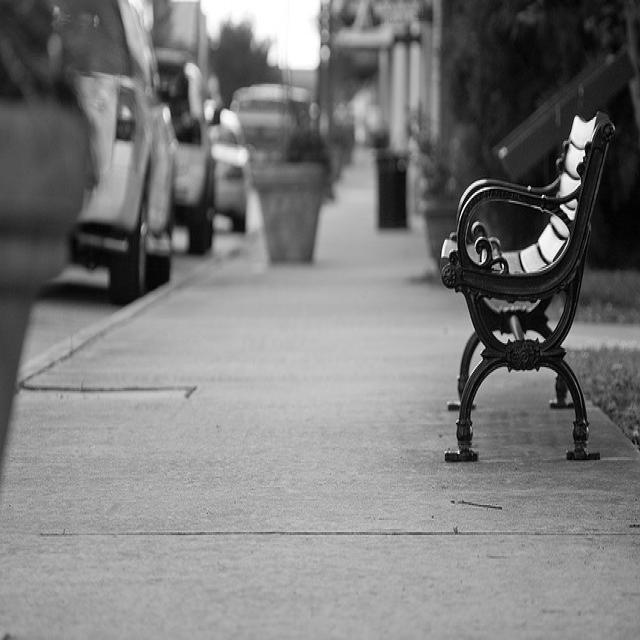Vehicle: (36, 2, 179, 306), (151, 46, 218, 255), (231, 88, 309, 162), (214, 102, 249, 238)
